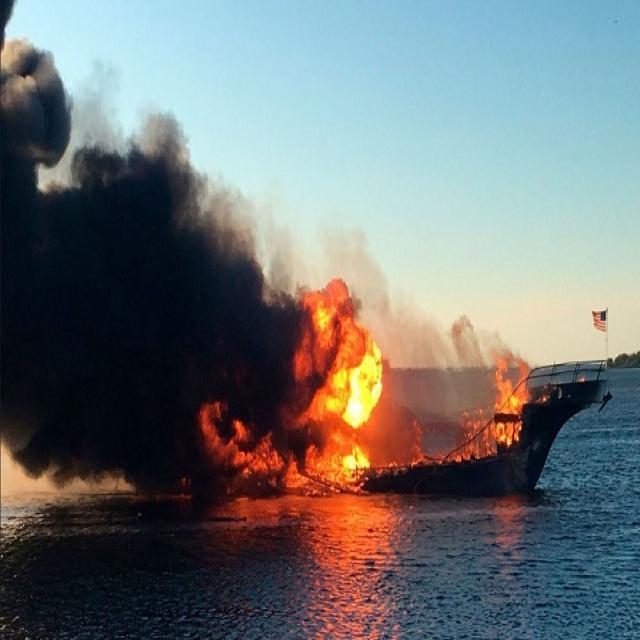Fire: (294, 278, 384, 481), (403, 408, 488, 464), (490, 353, 530, 453)
Smoke: (86, 109, 294, 498), (2, 1, 86, 488), (388, 295, 488, 402)
